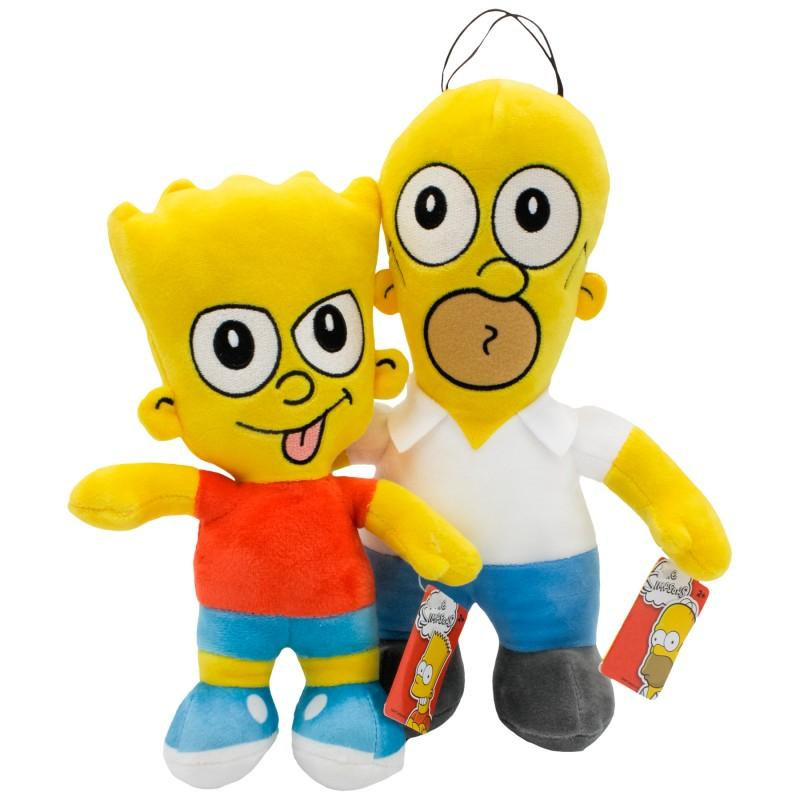Bart: (68, 155, 443, 792)
Homer: (362, 5, 705, 752)
